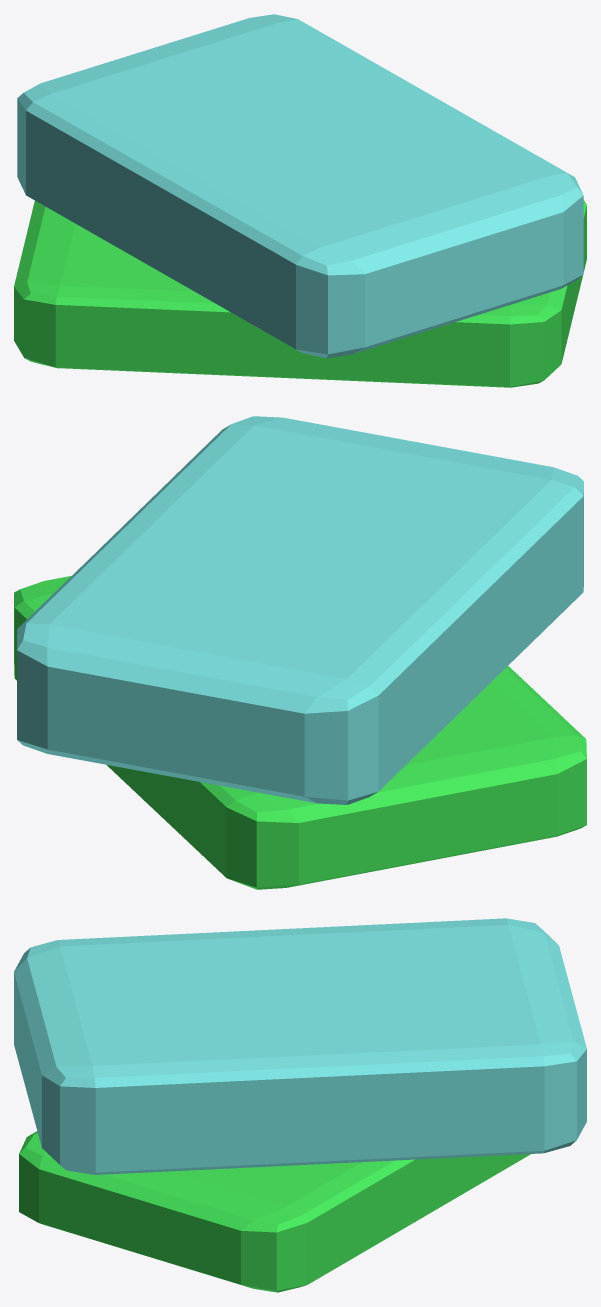
Rendered from books.fbx.
3 views of the same model, one above another, from view 1: azimuth 30°, elevation 25°; view 2: azimuth 150°, elevation 25°; view 3: azimuth 270°, elevation 25° (orthographic). The views are drawn at different scales.
Parts seen in each view (by area): view 1: BookPile; view 2: BookPile; view 3: BookPile.
Part boxes in pixels (x1,y1,x2,y2): BookPile: (14,14,586,387); BookPile: (14,416,586,889); BookPile: (14,918,586,1292).
Bounding box in the file's own units: 20.42 × 6.48 × 19.22.
